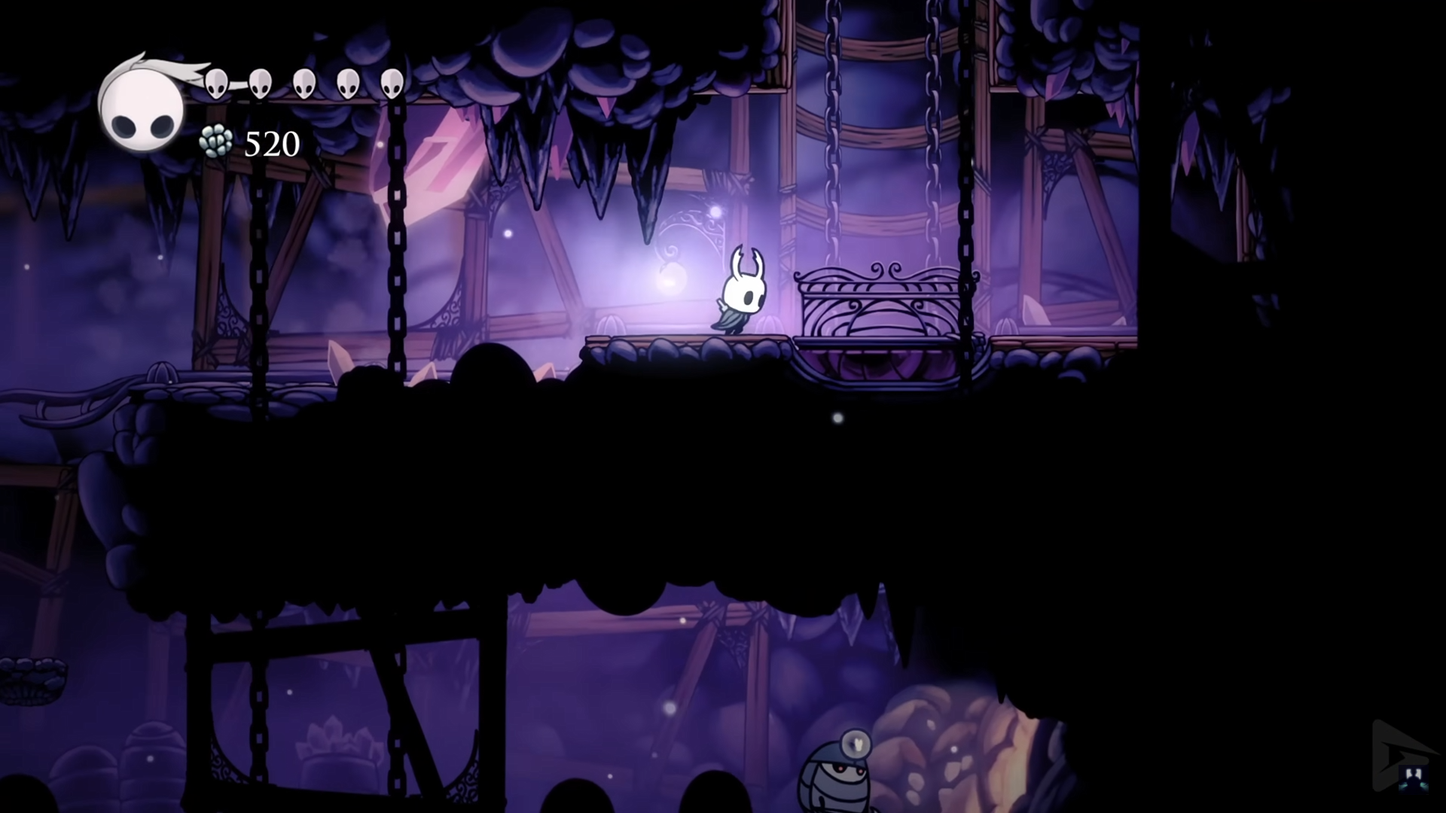HK: (712, 244, 772, 337)
